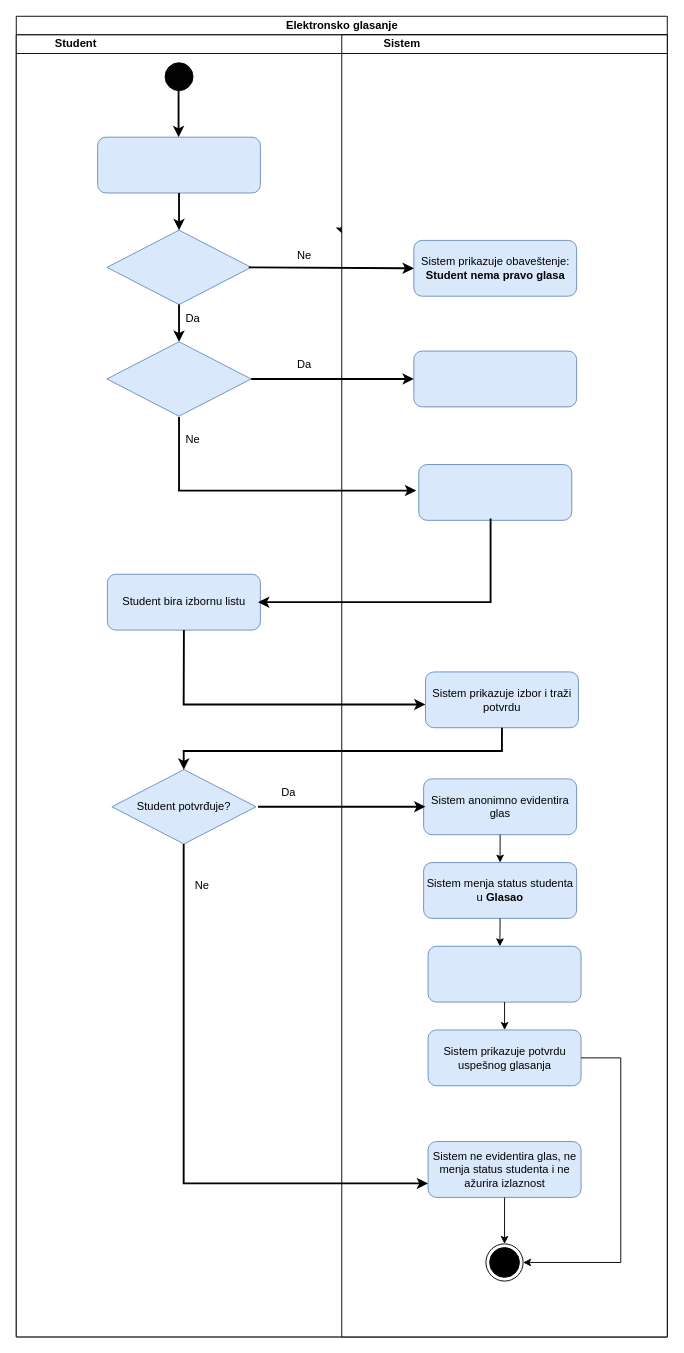
The diagram is 684 pixels wide and 1353 high, and some of its shapes have lost their labels. Each missing label, with the box of its shape:
Ima pravo glasa?: (106, 229, 251, 305)
Sistem ažurira izlaznost na izborima: (427, 945, 581, 1002)
Sistem prikazuje izborne liste: (418, 464, 572, 520)
Sistem prikazuje obaveštenje: Student je već glasao: (413, 350, 577, 407)
Student bira opciju Glasaj: (97, 136, 260, 193)
Već glasao?: (106, 341, 251, 416)
